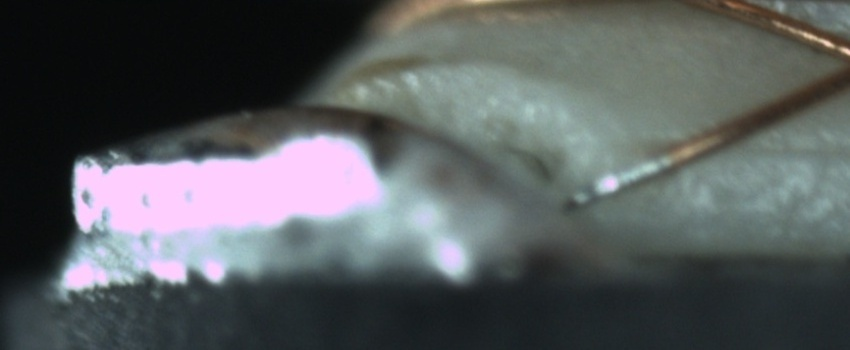CL: (808, 22, 849, 98)
DL: (704, 118, 848, 185)
TS: (565, 151, 671, 211)
